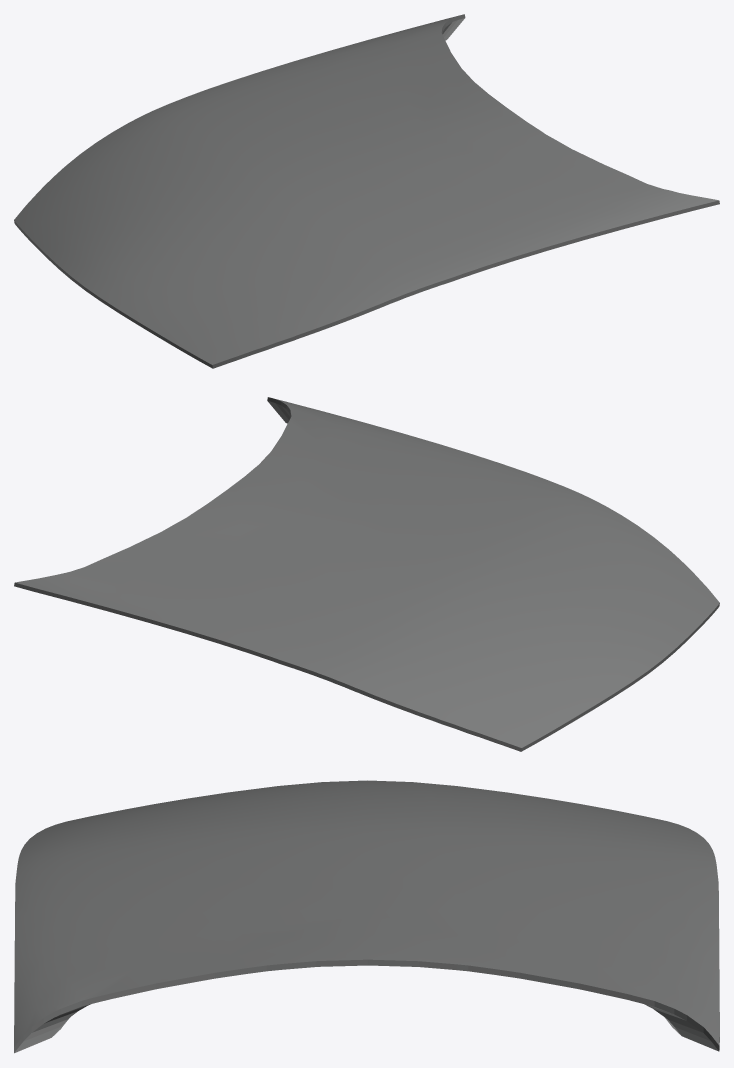
Rendered from hood.glb.
3 renders of one model, top to bottom at view 1: azimuth 30°, elevation 25°; view 2: azimuth 150°, elevation 25°; view 3: azimuth 270°, elevation 25°, orthographic. The views are drawn at different scales.
Visible parts, largest first — view 1: hood; view 2: hood; view 3: hood.
Part boxes in pixels (left/top/right/bottom): hood: left=14, top=14, right=719, bottom=368; hood: left=14, top=397, right=719, bottom=751; hood: left=14, top=780, right=719, bottom=1053.
Size of the model in its own units: 36.06 by 6.33 by 31.21.
1 material, 1 textured.
